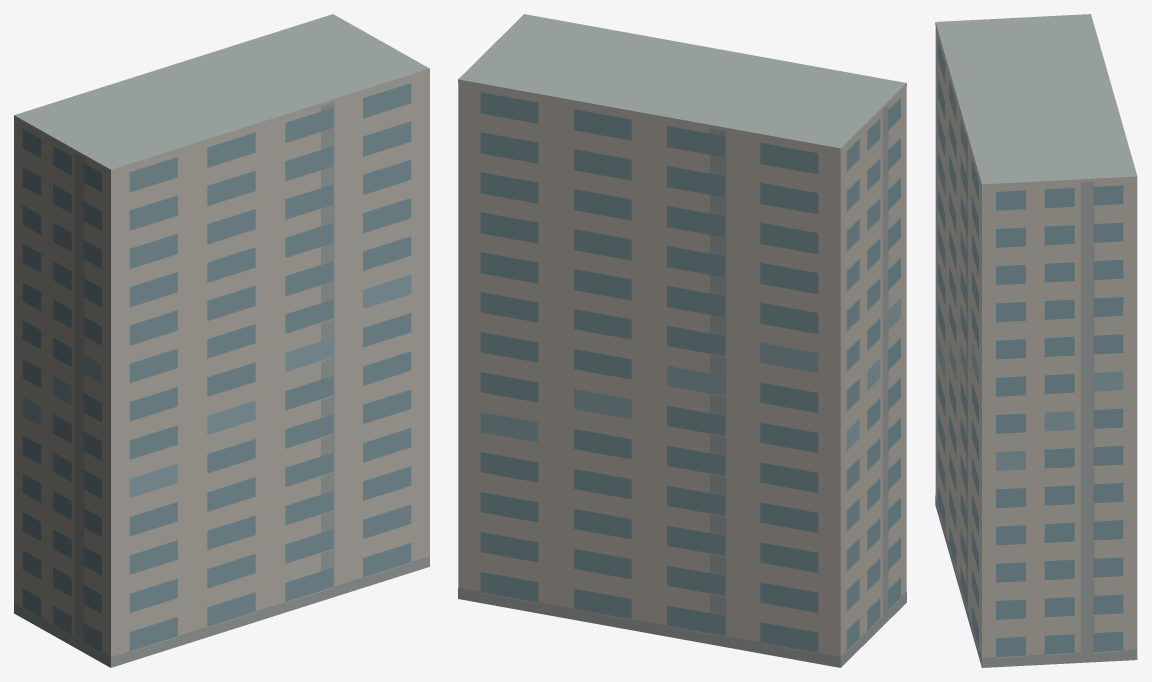
Rendered from residential-4293d22e-9f6e-4015-a644-a6194bec10cc.glb.
The picture shows the model from 3 angles, left to right: view 1: azimuth 30°, elevation 25°; view 2: azimuth 150°, elevation 25°; view 3: azimuth 270°, elevation 25°; orthographic projection. The views are drawn at different scales.
Visible parts, largest first — view 1: residential-4293d22e-9f6e-4015-a644-a6194bec10cc.tmp; view 2: residential-4293d22e-9f6e-4015-a644-a6194bec10cc.tmp; view 3: residential-4293d22e-9f6e-4015-a644-a6194bec10cc.tmp.
Part boxes in pixels (bbox=[...]): residential-4293d22e-9f6e-4015-a644-a6194bec10cc.tmp: bbox=[14, 14, 429, 667]; residential-4293d22e-9f6e-4015-a644-a6194bec10cc.tmp: bbox=[458, 14, 906, 667]; residential-4293d22e-9f6e-4015-a644-a6194bec10cc.tmp: bbox=[935, 14, 1137, 667].
Size of the model in its own units: 29.48 by 39 by 14.77.
